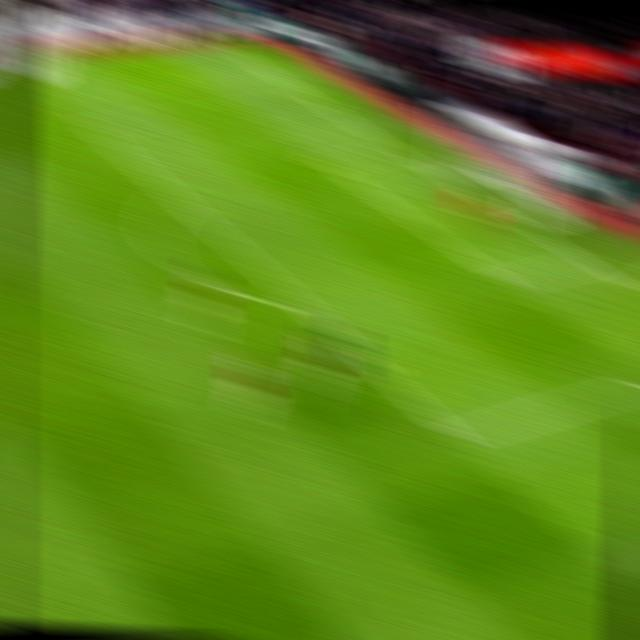bigarea_bottom_inner: (438, 420, 479, 452)
bigarea_top_inner: (74, 113, 114, 141)
bigarea_top_outter: (295, 87, 332, 110)
bottom_arc_area_intersection: (286, 291, 324, 319)
corner: (203, 32, 243, 54)
smallarea_bottom_inner: (487, 264, 529, 296)
smallarea_bottom_outter: (568, 245, 608, 276)
smallarea_top_inner: (311, 148, 348, 175)
smallarea_top_outter: (382, 138, 419, 162)
top_arc_area_intersection: (159, 186, 197, 211)
